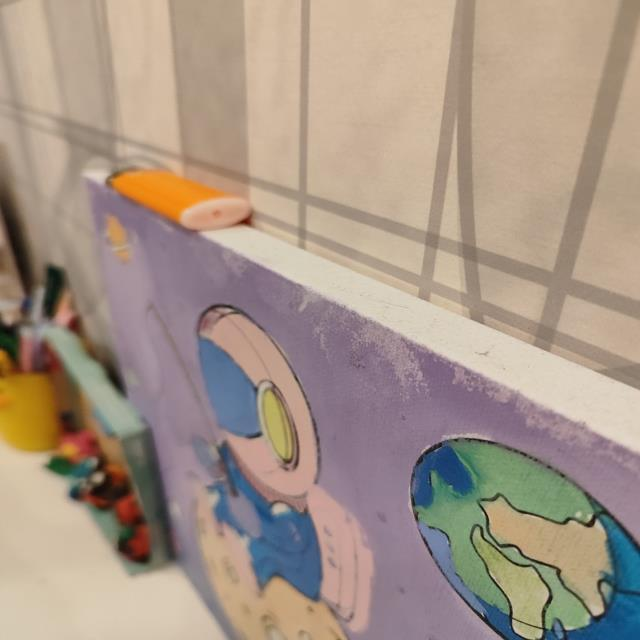lighter: (106, 169, 251, 229)
